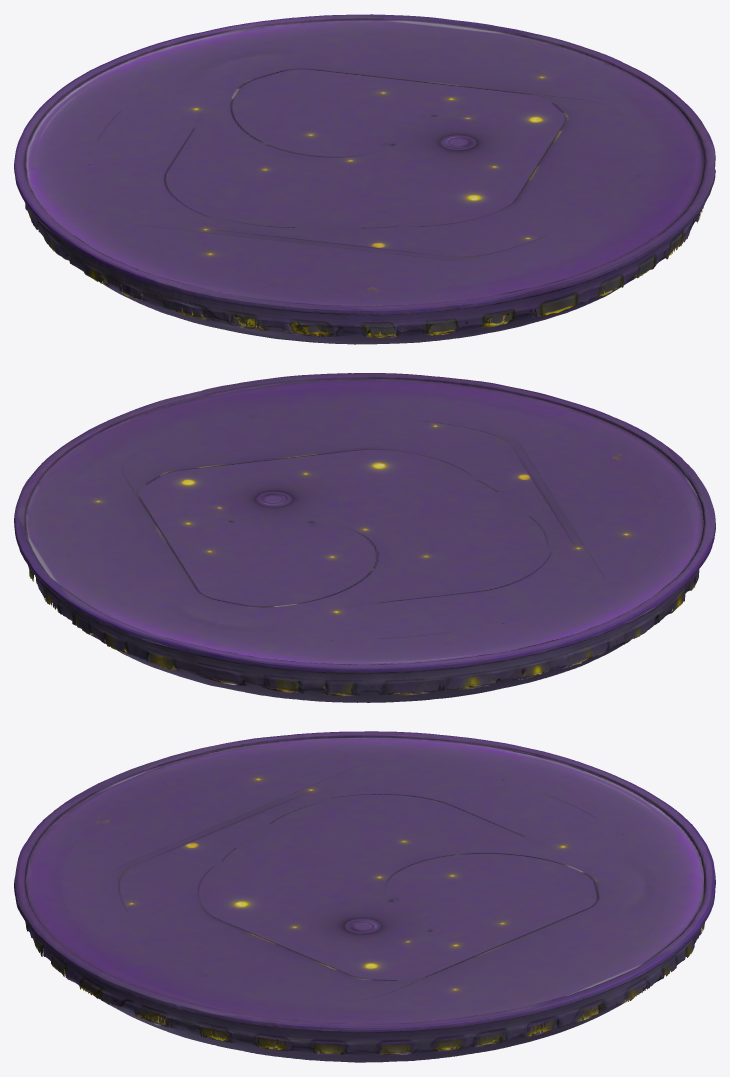
File: light.fbx
3 renders of one model, top to bottom at view 1: azimuth 30°, elevation 25°; view 2: azimuth 150°, elevation 25°; view 3: azimuth 270°, elevation 25°, orthographic.
Visible parts, largest first — view 1: temp; view 2: temp; view 3: temp.
Boxes of the visible parts, <box> form: temp: <box>14,14,715,344</box>; temp: <box>14,373,715,702</box>; temp: <box>14,731,715,1062</box>.
Size of the model in its own units: 10.86 by 1.88 by 10.84.
1 material, 1 textured.
